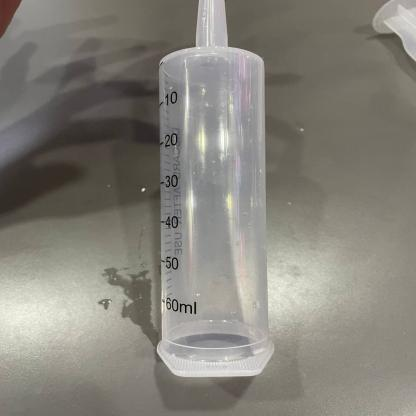wet: (112, 1, 300, 380)
